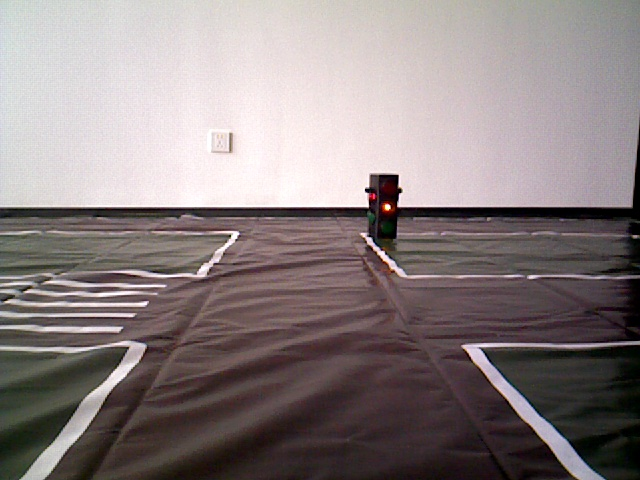yellow: (370, 173, 397, 233)
